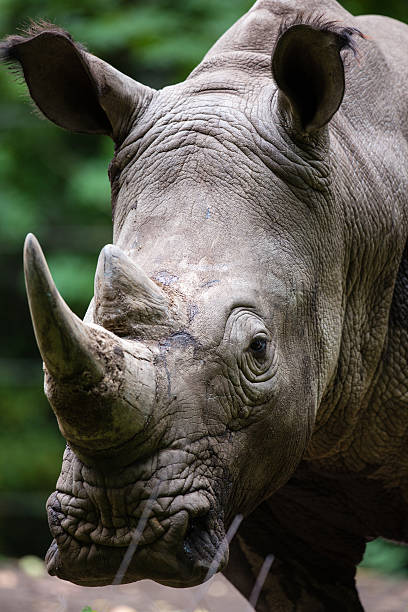rhino: (2, 9, 387, 612)
